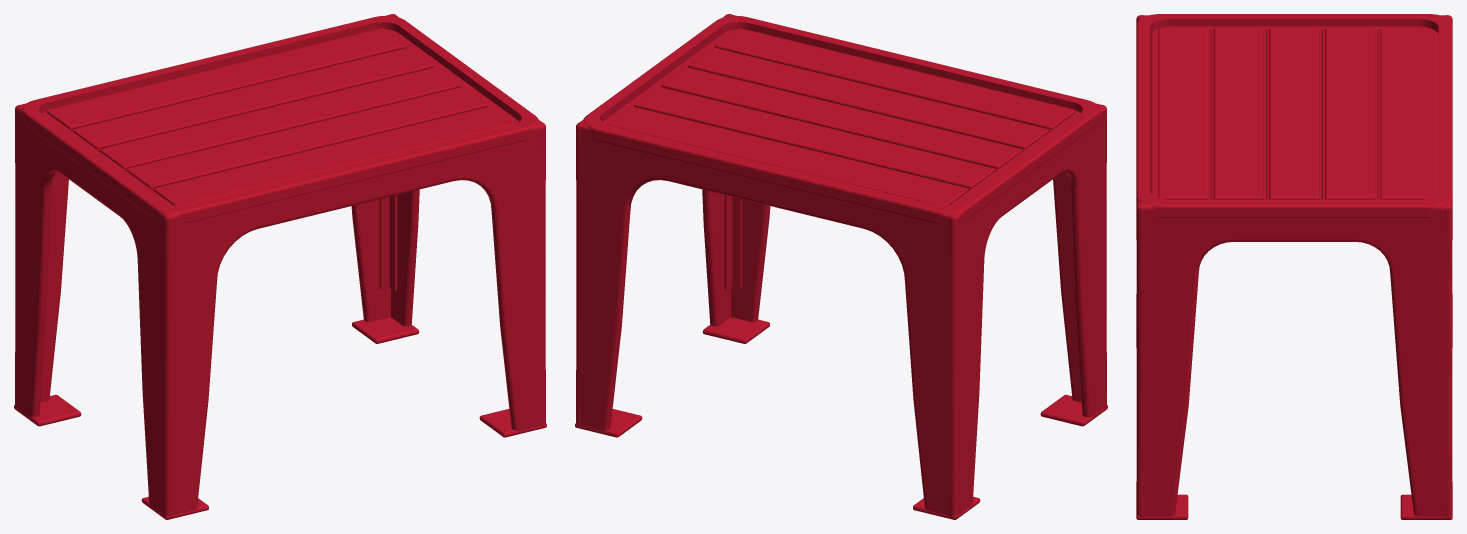
File: PROP_table_v009.glb
3 views of the same model, side by side, from view 1: azimuth 30°, elevation 25°; view 2: azimuth 150°, elevation 25°; view 3: azimuth 270°, elevation 25° (orthographic). The views are drawn at different scales.
Visible parts, largest first — view 1: SideLong, SideShort, TableRimOuter, TableRib.002, TableRib.004, TableRib.001, TableRib.003, TableRib, SideLong.001, TableTopPanel, SideShort.001, FootTab.003 (+4 smaller); view 2: SideLong.001, SideShort, TableRimOuter, TableRib.002, TableRib, TableRib.001, TableRib.003, TableRib.004, SideLong, TableTopPanel, SideShort.001, FootTab.002 (+4 smaller); view 3: SideShort.001, TableRimOuter, TableRib.002, TableRib.001, TableRib.003, TableRib, TableRib.004, TableTopPanel, SideLong, SideLong.001, FootTab.002, FootTab.003.
Part boxes in pixels (x1,y1,x2,y2): SideLong: [162, 122, 545, 516]; SideShort: [15, 105, 172, 516]; TableRimOuter: [22, 15, 538, 223]; TableRib.002: [100, 67, 460, 169]; TableRib.004: [46, 28, 407, 129]; TableRib.001: [127, 87, 487, 188]; TableRib.003: [73, 48, 433, 149]; TableRib: [153, 107, 514, 205]; SideLong.001: [15, 14, 396, 407]; TableTopPanel: [41, 29, 519, 204]; SideShort.001: [390, 14, 545, 425]; FootTab.003: [352, 317, 419, 343]; SideLong.001: [576, 122, 959, 516]; SideShort: [949, 105, 1106, 516]; TableRimOuter: [583, 15, 1099, 223]; TableRib.002: [661, 67, 1021, 169]; TableRib: [714, 28, 1075, 129]; TableRib.001: [688, 48, 1048, 149]; TableRib.003: [634, 87, 994, 188]; TableRib.004: [607, 107, 968, 205]; SideLong: [725, 14, 1106, 407]; TableTopPanel: [602, 29, 1080, 204]; SideShort.001: [576, 14, 731, 425]; FootTab.002: [702, 317, 769, 343]; SideShort.001: [1136, 203, 1452, 516]; TableRimOuter: [1136, 14, 1452, 217]; TableRib.002: [1269, 27, 1319, 199]; TableRib.001: [1213, 27, 1263, 199]; TableRib.003: [1325, 27, 1375, 199]; TableRib: [1158, 27, 1208, 199]; TableRib.004: [1380, 27, 1430, 199]; TableTopPanel: [1150, 26, 1438, 199]; SideLong: [1136, 15, 1143, 517]; SideLong.001: [1445, 15, 1452, 517]; FootTab.002: [1136, 494, 1188, 519]; FootTab.003: [1400, 494, 1452, 519].
Bounding box in the file's own units: 0.655 × 0.5 × 0.455.
